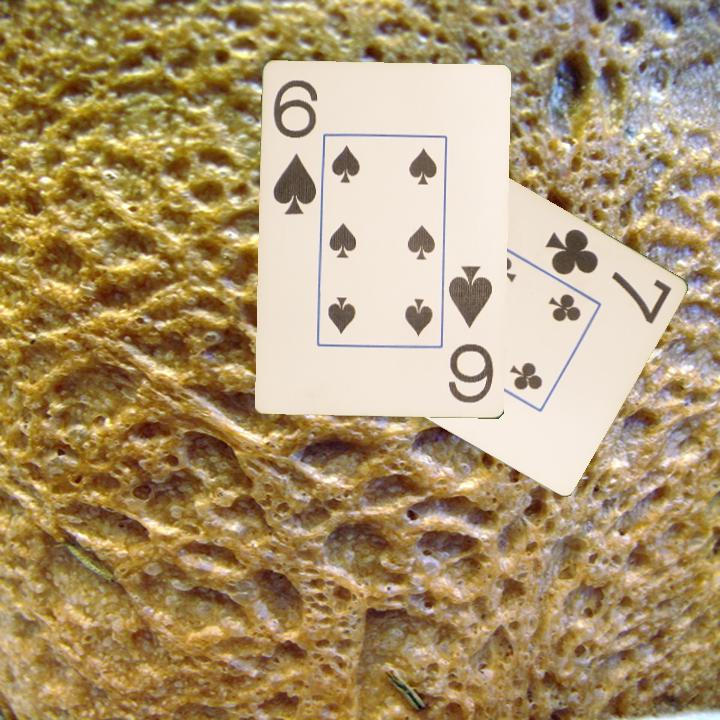6s: (269, 76, 322, 218), (445, 263, 497, 407)
7c: (541, 225, 674, 327)
